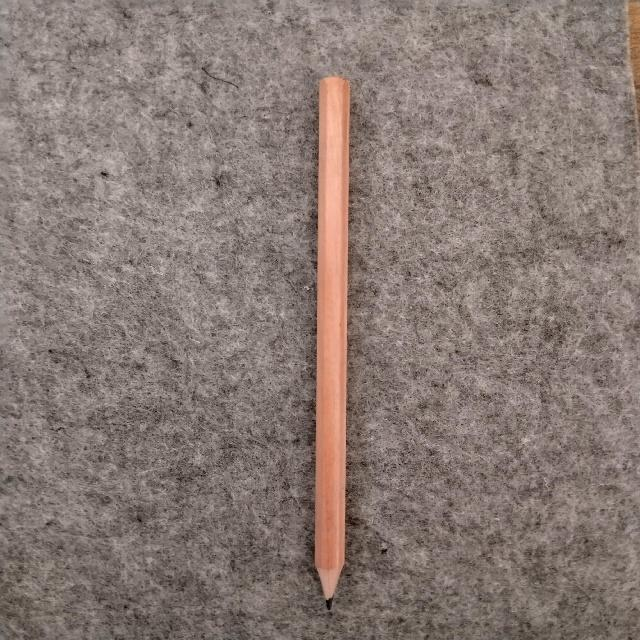pencil: (315, 77, 349, 607)
